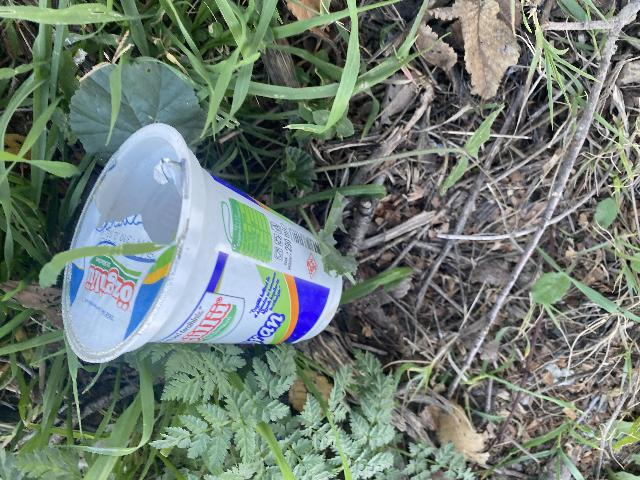Plastik: (54, 132, 338, 357)
